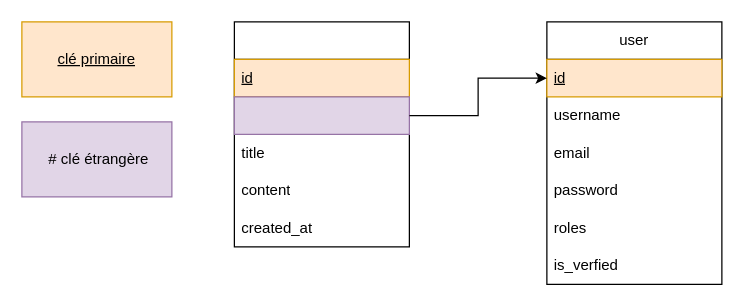
Image size: 744x306. Some labels were removed from this diagram. The box of each missing label's shape, as (x1, y1, x2, y2) in pixels:
# author_id: (233, 96, 409, 134)
article: (233, 21, 409, 247)
